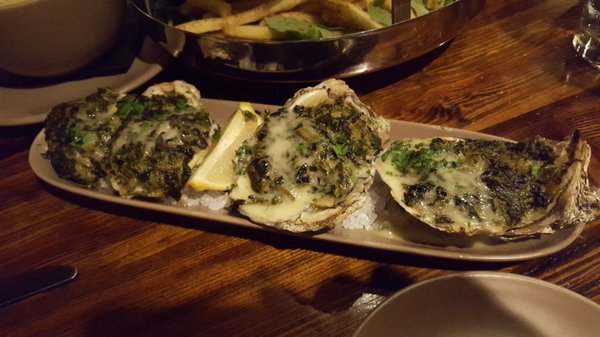sandwich: (0, 265, 78, 309)
sushi: (123, 1, 485, 94)
